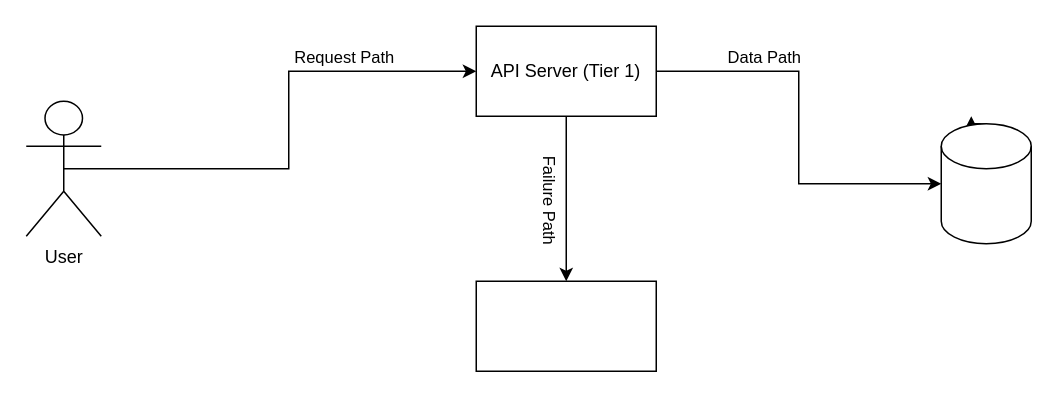
The diagram is 1058 pixels wide and 398 high, and some of its shapes have lost their labels. Here are the shapes that lost their labels. From the top down, the box of each, then its label:
(940, 122, 1031, 244): Database (Tier 2)
(475, 280, 656, 371): Monitoring & Alerts
